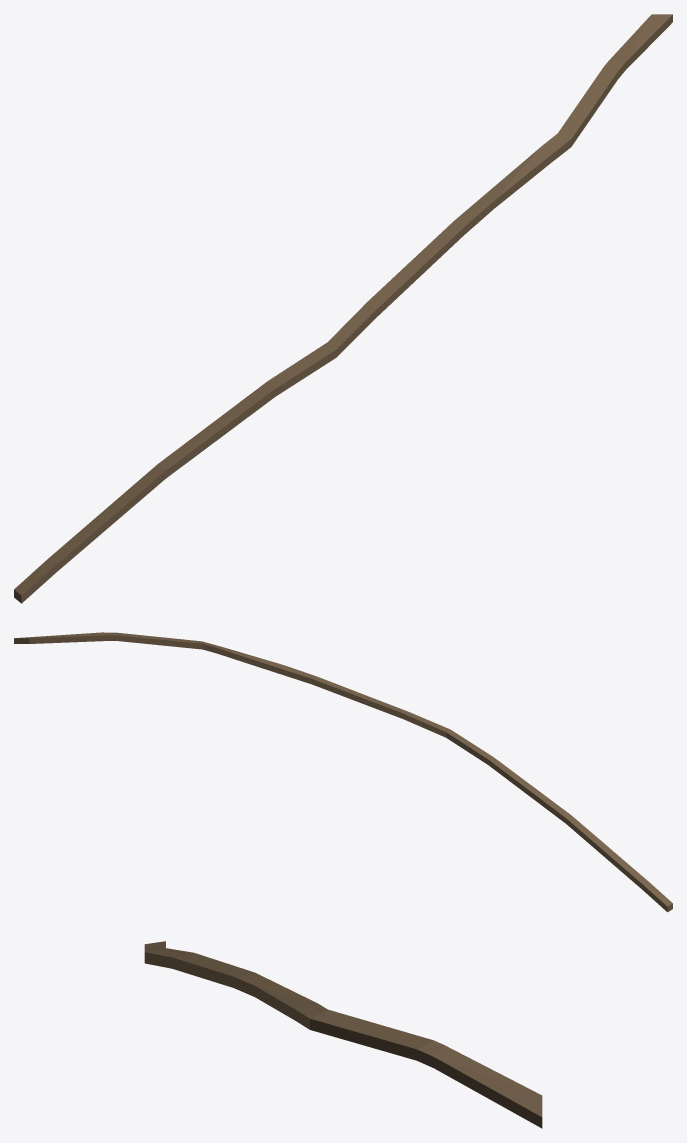
The picture shows the model from 3 angles, top to bottom: view 1: azimuth 30°, elevation 25°; view 2: azimuth 150°, elevation 25°; view 3: azimuth 270°, elevation 25°; orthographic projection. The views are drawn at different scales.
Size of the model in its own units: 72.16 by 25.95 by 22.22.
